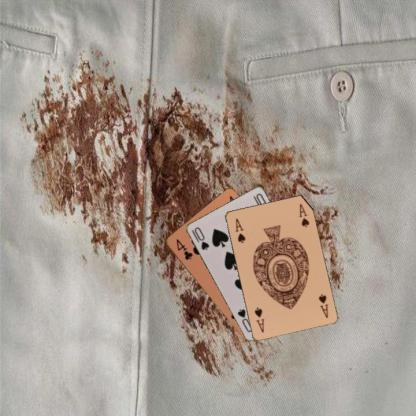10s: (188, 224, 210, 252)
4c: (173, 236, 194, 261)
As: (232, 216, 247, 245), (315, 291, 329, 318)
